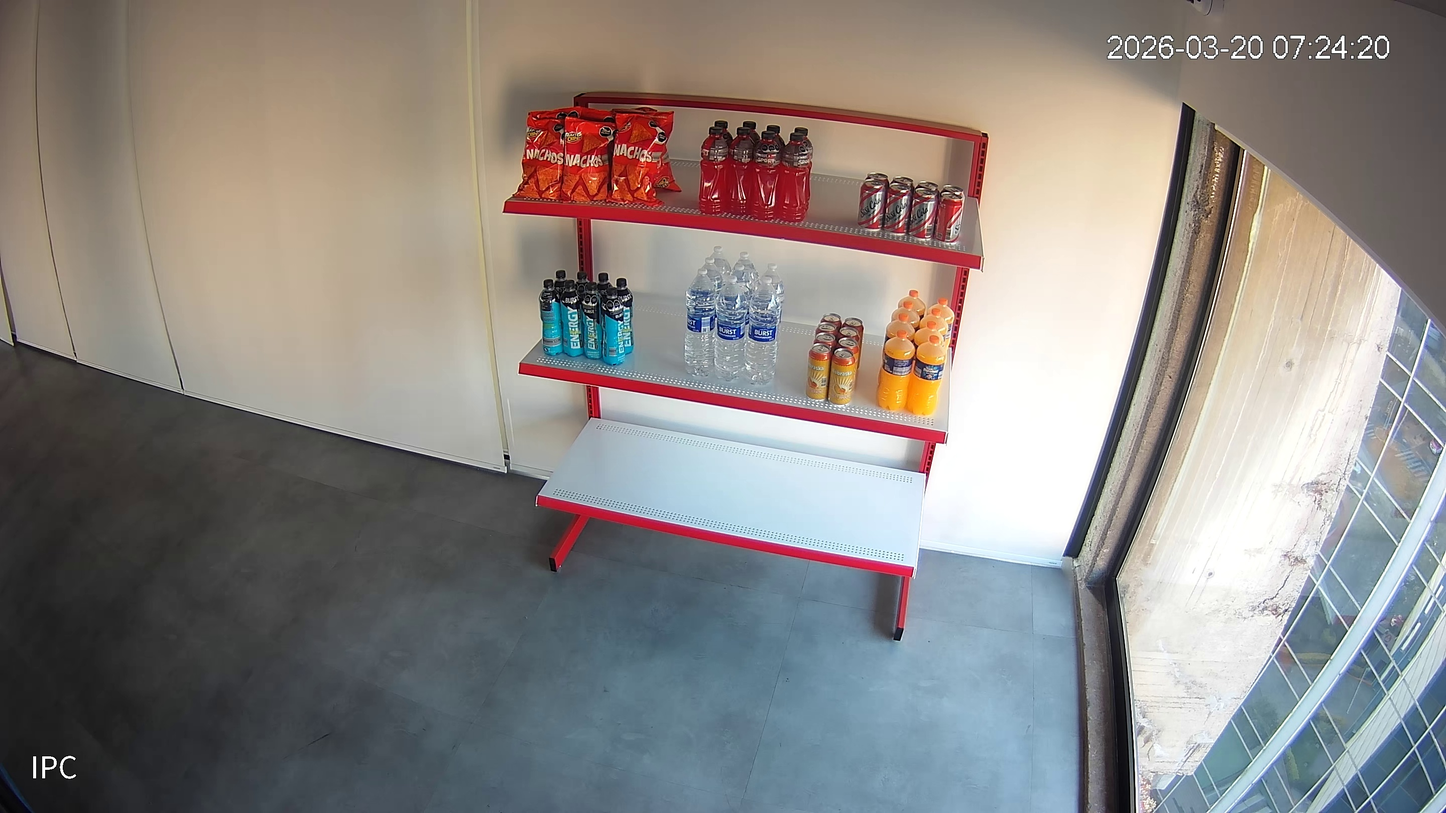agua_burst: (760, 263, 785, 361), (732, 264, 755, 337), (701, 257, 723, 297)
burst_energetica_roja: (699, 127, 728, 216), (794, 127, 812, 200), (742, 121, 760, 144)
burst_energy: (597, 272, 613, 298), (576, 271, 590, 298), (554, 270, 568, 296)
nachos_naturasol: (562, 117, 617, 202), (528, 106, 580, 119), (579, 107, 616, 123)
nebraska_mango: (813, 333, 836, 356), (815, 323, 838, 343), (837, 327, 860, 342)
sisi_cola: (909, 188, 938, 239), (940, 185, 965, 204), (864, 172, 889, 191)
sun_paradise_naranja: (884, 313, 915, 346), (914, 321, 944, 350), (898, 290, 925, 319)
